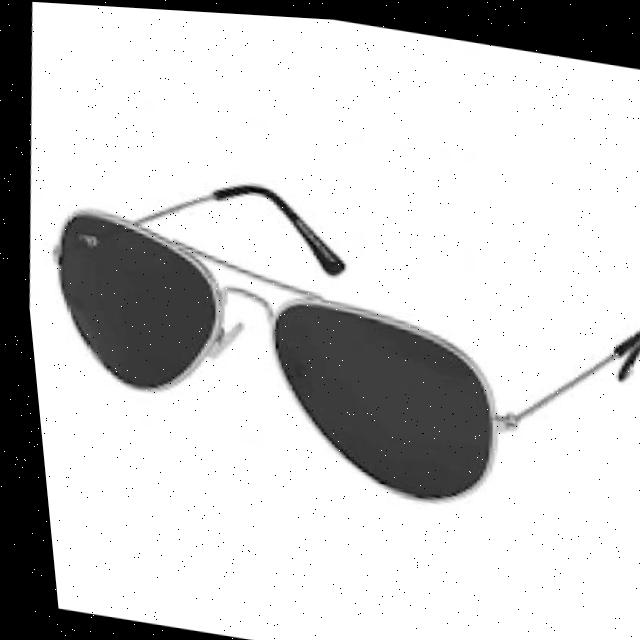gozluk: (17, 197, 536, 520)
